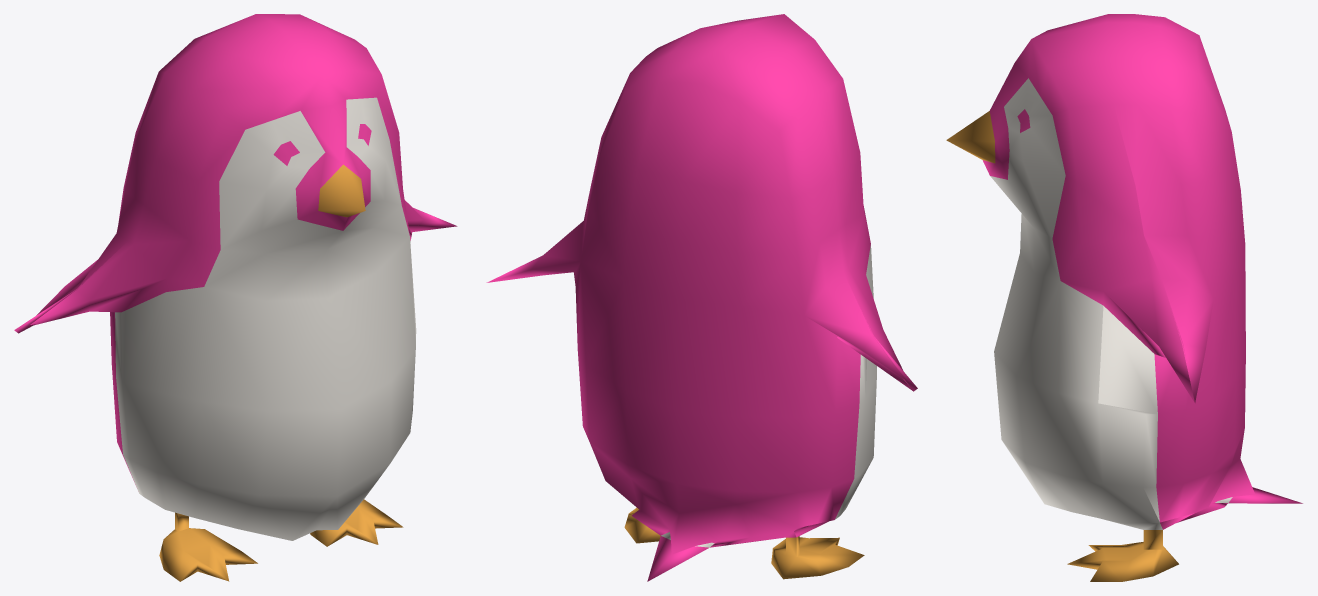
Rendered from penguin-pink.fbx.
3 views of the same model, side by side, from view 1: azimuth 30°, elevation 25°; view 2: azimuth 150°, elevation 25°; view 3: azimuth 270°, elevation 25° (orthographic). The views are drawn at different scales.
Parts seen in each view (by area): view 1: Cube.002; view 2: Cube.002; view 3: Cube.002.
Part boxes in pixels (x1=…): Cube.002: x1=14, y1=14, x2=457, y2=581; Cube.002: x1=486, y1=14, x2=917, y2=581; Cube.002: x1=946, y1=14, x2=1302, y2=581.
Size of the model in its own units: 220 by 248 by 159.
